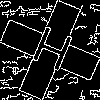H: (25, 25, 76, 81)
